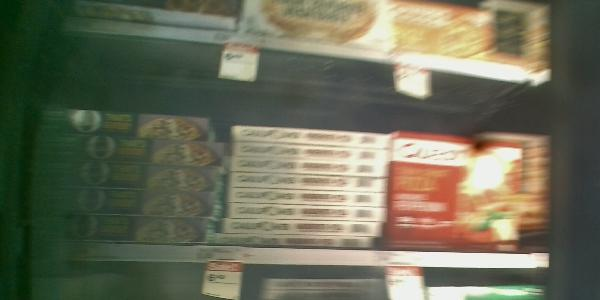pizza: (396, 132, 521, 249)
pizza1: (26, 108, 214, 141), (25, 137, 227, 167), (24, 167, 223, 194), (21, 217, 213, 244), (23, 194, 218, 217), (231, 142, 391, 164), (231, 175, 388, 196), (231, 125, 393, 144), (220, 233, 376, 252), (229, 206, 385, 223), (230, 162, 392, 178), (223, 220, 383, 236), (228, 193, 388, 208)
